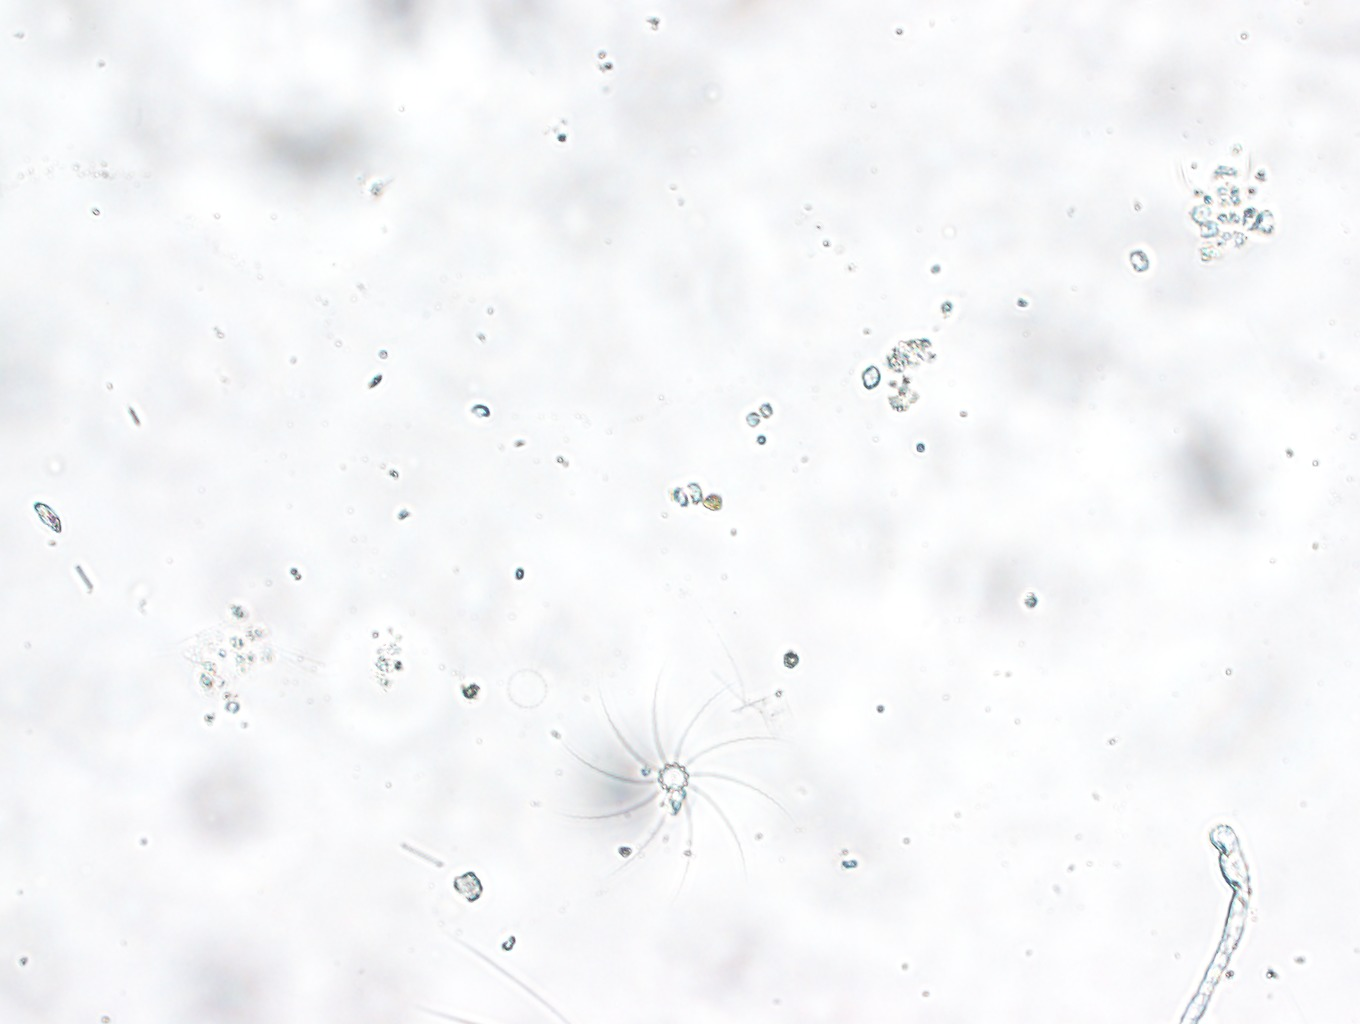bacteriastrum: (559, 666, 786, 891)
